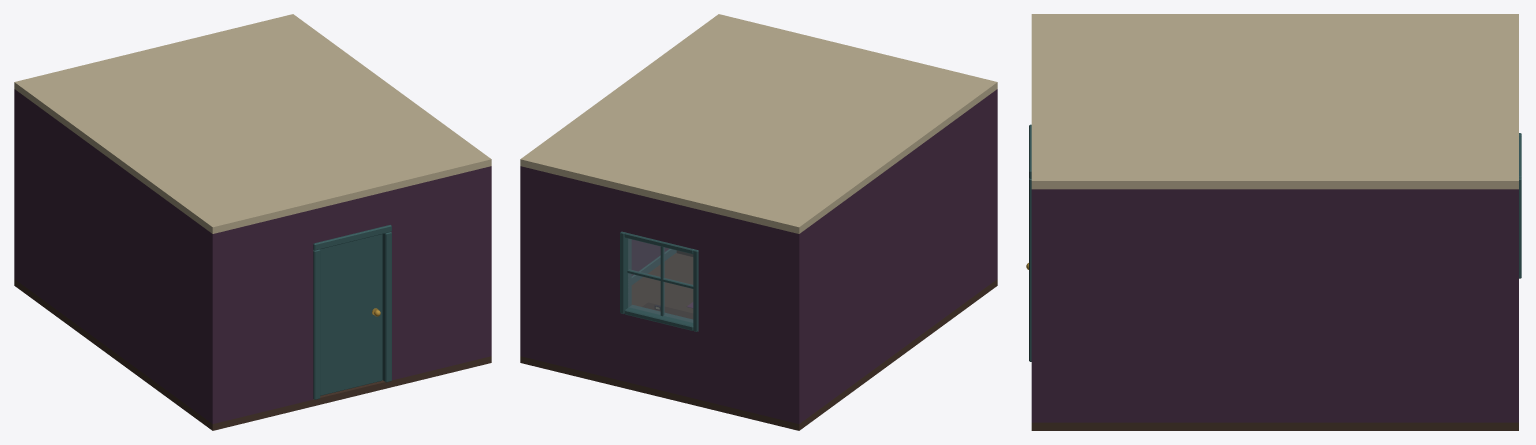
The model's file is level-0.glb.
3 views of the same model, side by side, from view 1: azimuth 30°, elevation 25°; view 2: azimuth 150°, elevation 25°; view 3: azimuth 270°, elevation 25° (orthographic). The views are drawn at different scales.
Visible parts, largest first — view 1: Ceiling, Wall_S, Wall_W, Interact_Door, Floor, Door_Frame, Wall_N; view 2: Ceiling, Wall_N, Wall_W, Floor, Window_Glass, Window_Frame, Wall_S, Wall_E; view 3: Wall_E, Ceiling, Floor, Wall_S, Wall_N, Door_Frame.
Boxes of the visible parts, x1=… form: Ceiling: x1=14, y1=14, x2=491, y2=233; Wall_S: x1=207, y1=166, x2=491, y2=423; Wall_W: x1=20, y1=93, x2=206, y2=419; Interact_Door: x1=320, y1=234, x2=382, y2=395; Floor: x1=14, y1=279, x2=491, y2=430; Door_Frame: x1=313, y1=224, x2=391, y2=399; Wall_N: x1=14, y1=89, x2=19, y2=282; Ceiling: x1=520, y1=14, x2=997, y2=233; Wall_N: x1=520, y1=166, x2=804, y2=423; Wall_W: x1=805, y1=93, x2=991, y2=419; Floor: x1=520, y1=253, x2=997, y2=430; Window_Glass: x1=628, y1=239, x2=692, y2=322; Window_Frame: x1=620, y1=231, x2=698, y2=331; Wall_S: x1=992, y1=89, x2=997, y2=282; Wall_E: x1=631, y1=239, x2=668, y2=275; Wall_E: x1=1045, y1=189, x2=1505, y2=422; Ceiling: x1=1031, y1=14, x2=1518, y2=189; Floor: x1=1031, y1=422, x2=1518, y2=430; Wall_S: x1=1031, y1=189, x2=1045, y2=422; Wall_N: x1=1505, y1=189, x2=1518, y2=422; Door_Frame: x1=1029, y1=124, x2=1031, y2=361.
Size of what is drawn, in the model's own units: 4.3 by 3 by 5.39.
